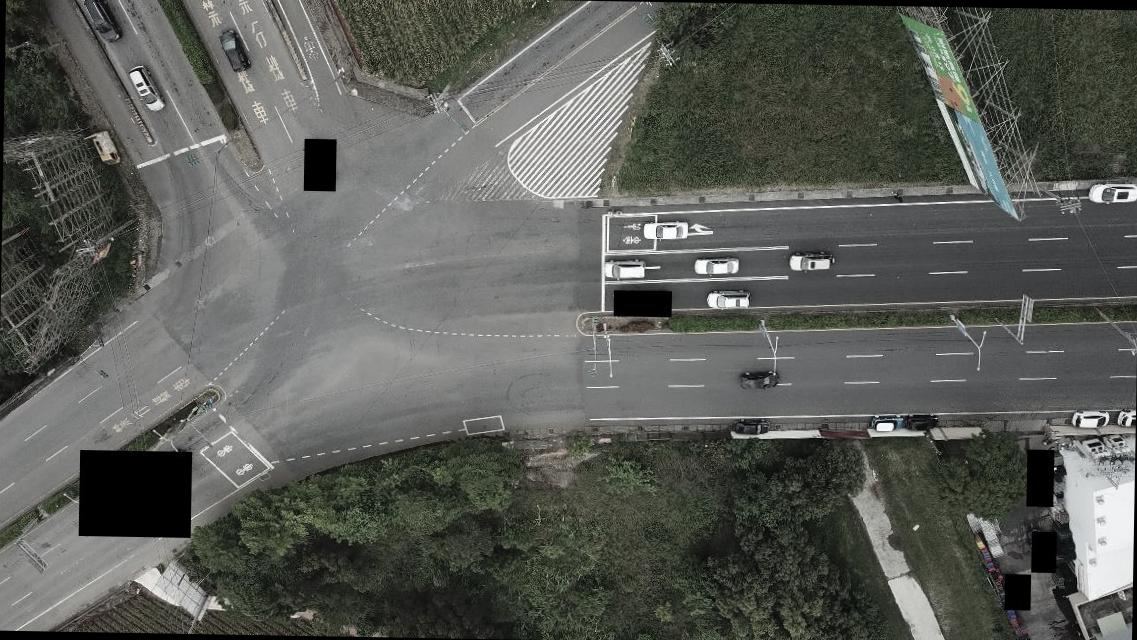vehicle: (82, 0, 125, 45), (128, 65, 165, 113), (218, 28, 248, 73), (1087, 182, 1136, 206), (640, 218, 690, 241), (787, 250, 834, 274), (705, 288, 750, 310), (603, 258, 648, 280), (93, 130, 120, 166), (695, 256, 742, 275), (738, 369, 778, 390), (1072, 410, 1110, 428), (870, 413, 904, 432), (906, 412, 938, 431), (734, 418, 771, 434), (1116, 406, 1134, 428)
